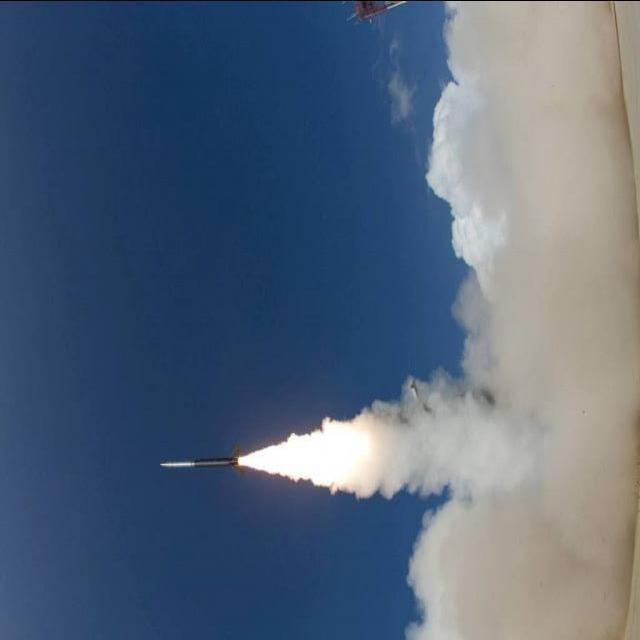missile: (154, 439, 250, 489)
